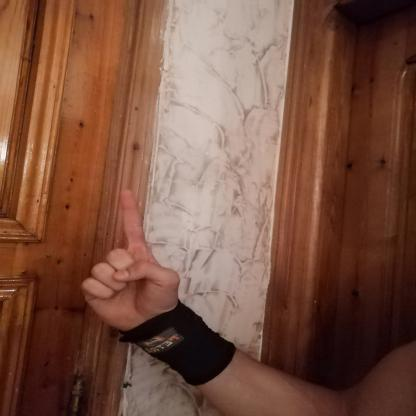BAA: (70, 180, 192, 347)
